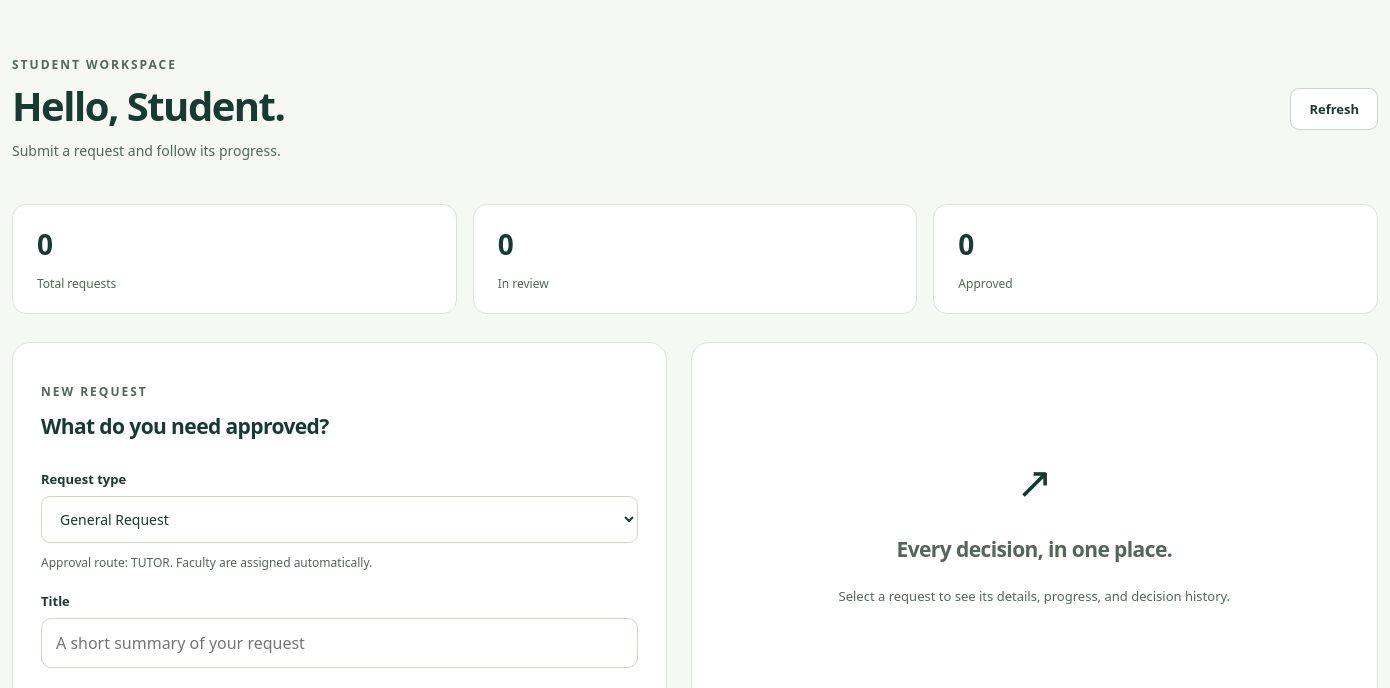
Test: small request workspace › retains entered details when server validation rejects a submission
In the field labelled "Title": (339, 643) [41,618,638,668], type "Library access"
(page scrolled)
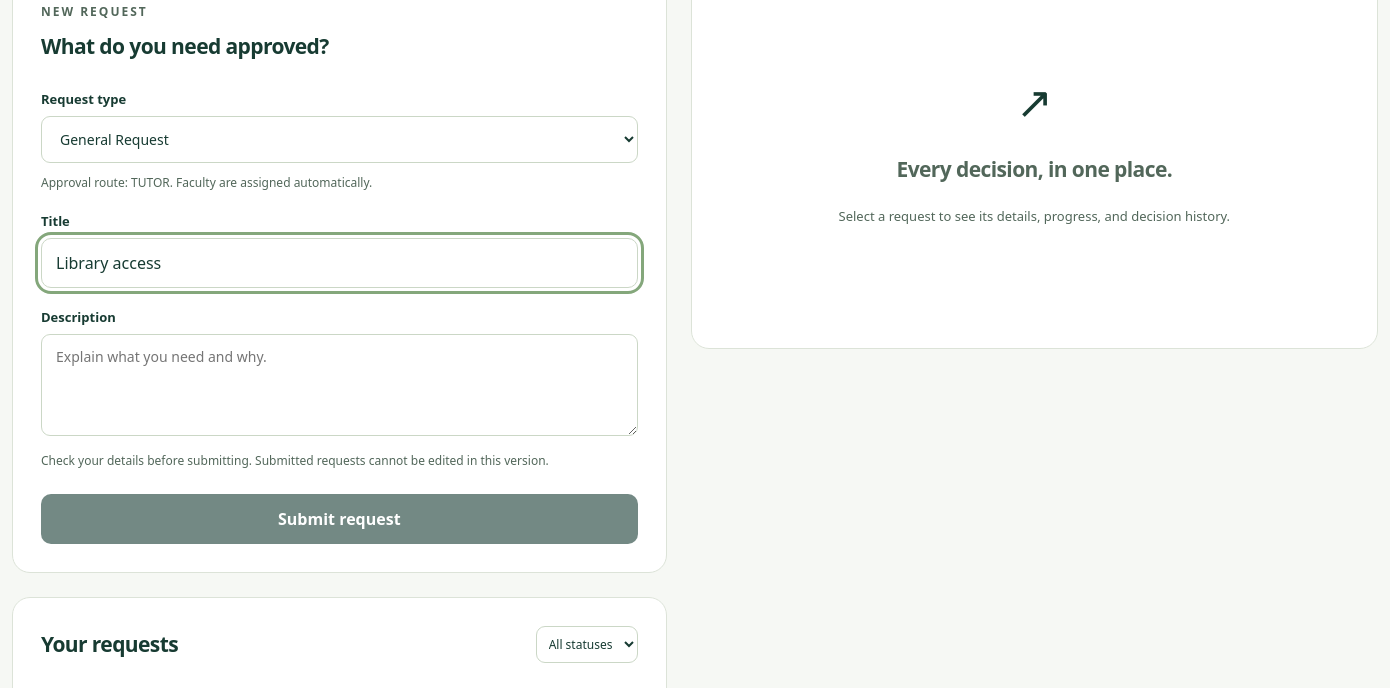
In the text box labelled "Description": (339, 385) [41,334,638,436], type "Details"
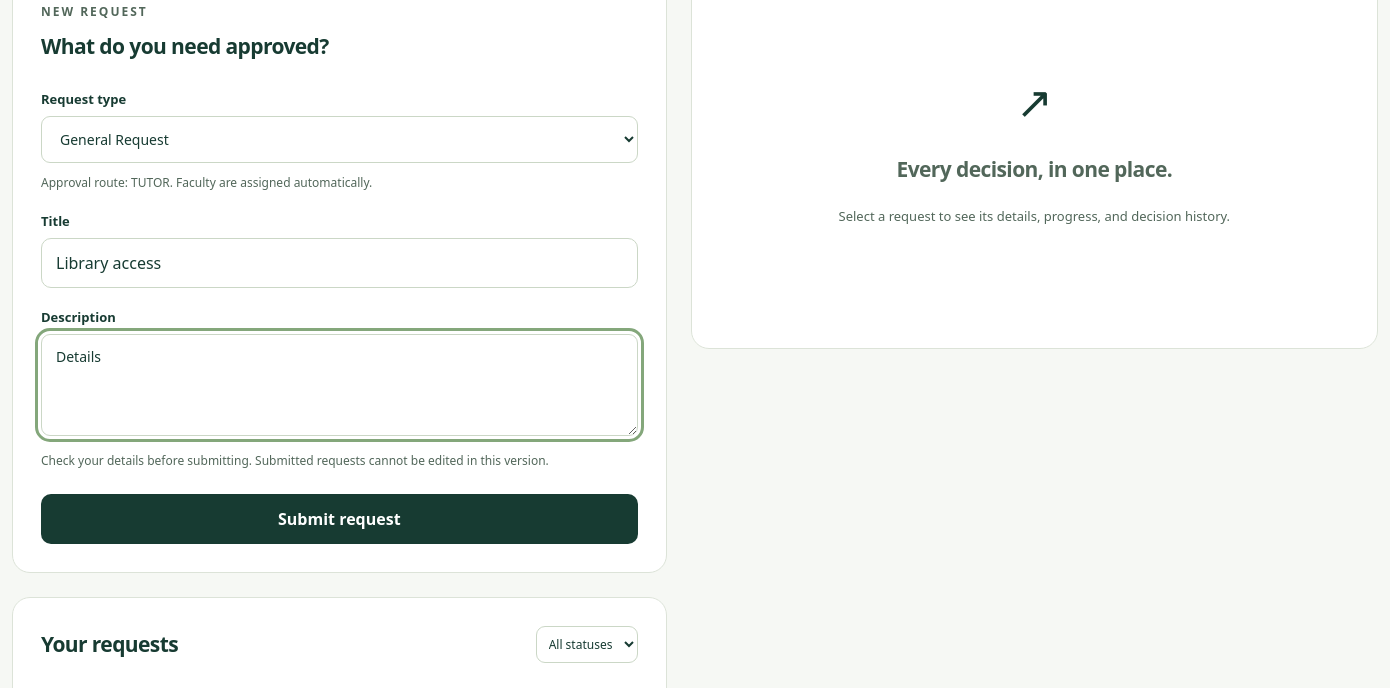
Click the button "Submit request": (339, 519) [41,494,638,544]
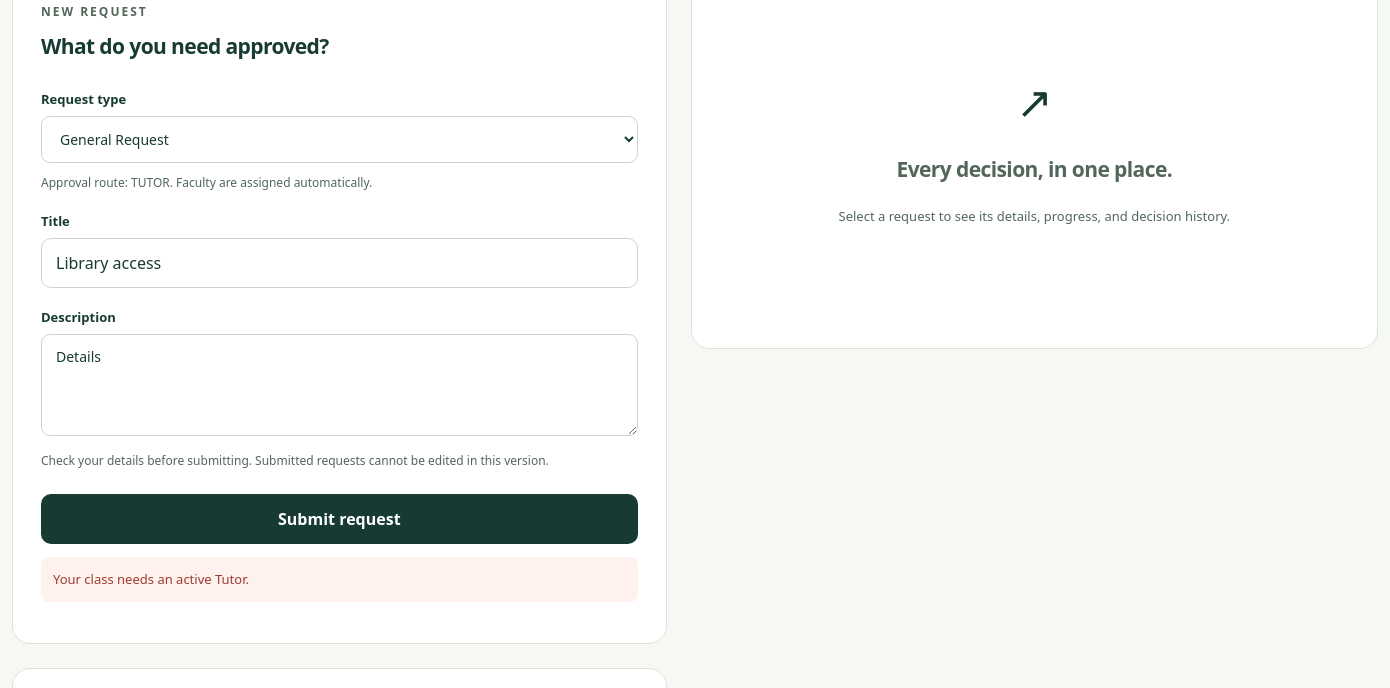
Now the message shows "active Tutor", box [53,570,249,588]
